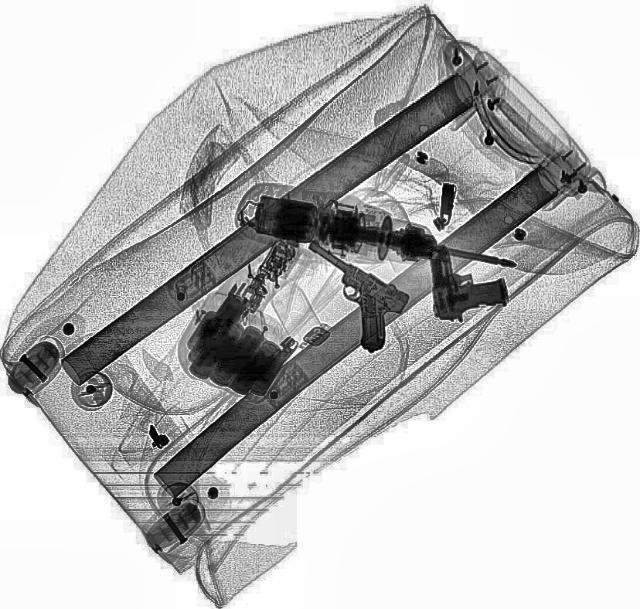Gun: (272, 235, 421, 354), (424, 237, 511, 323)
